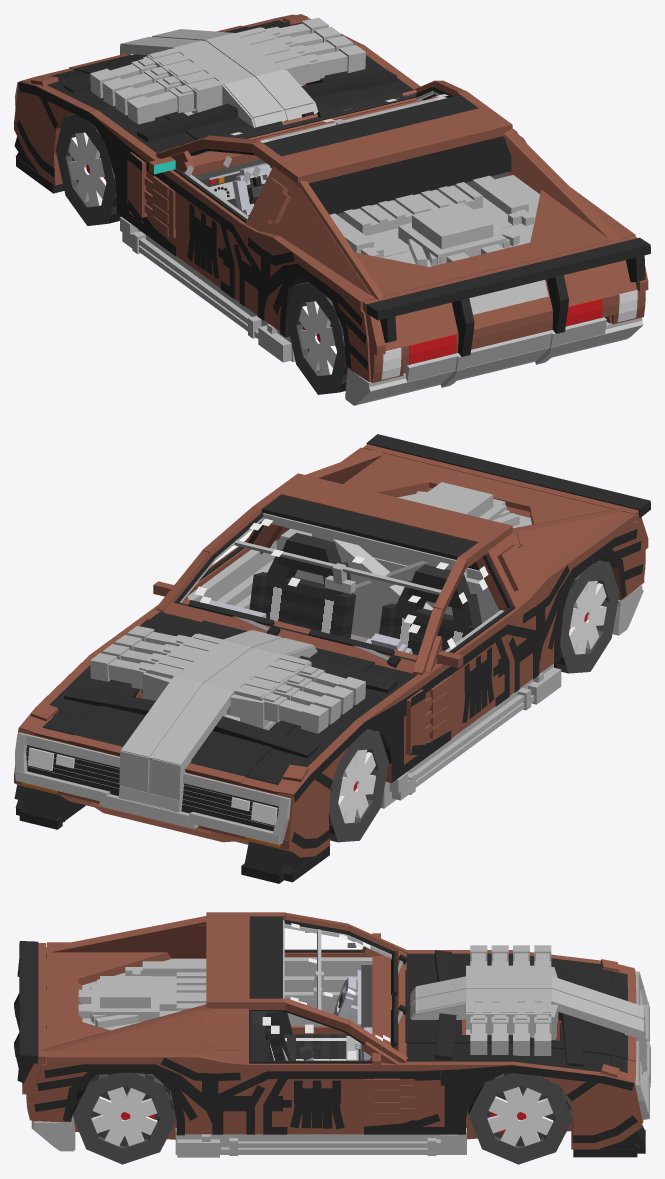
Rendered from hollowback.gltf.
The picture shows the model from 3 angles, top to bottom: view 1: azimuth 30°, elevation 25°; view 2: azimuth 150°, elevation 25°; view 3: azimuth 270°, elevation 25°; orthographic projection. The views are drawn at different scales.
Parts seen in each view (by area): view 1: part1 (×41), part3 (×17), part2 (×4), backwheels_main, front_left, wiper2, int; view 2: part1 (×50), part3 (×8), part2 (×6), seat (×5), backwheels_main, front_left, seatgp; view 3: part1 (×61), part3 (×17), part2 (×8), backwheels_main, front_right, bone4 (×4), seat, bone2 (×3), bone3 (×2), bone5 (×2), int.
Boxes of the visible parts, x1=… form: part1 (×41): x1=14, y1=55, x2=650, y2=403; part3 (×17): x1=121, y1=27, x2=539, y2=264; part2 (×4): x1=138, y1=229, x2=295, y2=362; backwheels_main: x1=286, y1=282, x2=347, y2=394; front_left: x1=55, y1=114, x2=121, y2=225; wiper2: x1=317, y1=92, x2=403, y2=117; int: x1=201, y1=159, x2=272, y2=186; part1 (×50): x1=14, y1=434, x2=650, y2=874; part3 (×8): x1=121, y1=482, x2=493, y2=771; part2 (×6): x1=187, y1=532, x2=561, y2=808; seat (×5): x1=262, y1=532, x2=481, y2=655; backwheels_main: x1=554, y1=559, x2=619, y2=673; front_left: x1=328, y1=728, x2=388, y2=842; seatgp: x1=451, y1=593, x2=481, y2=627; part1 (×61): x1=19, y1=912, x2=641, y2=1157; part3 (×17): x1=91, y1=958, x2=643, y2=1055; part2 (×8): x1=175, y1=957, x2=466, y2=1157; backwheels_main: x1=72, y1=1072, x2=176, y2=1164; front_right: x1=468, y1=1073, x2=572, y2=1164; bone4 (×4): x1=91, y1=1087, x2=157, y2=1146; seat: x1=284, y1=1034, x2=346, y2=1060; bone2 (×3): x1=487, y1=1098, x2=552, y2=1146; bone3 (×2): x1=488, y1=1096, x2=526, y2=1146; bone5 (×2): x1=123, y1=1087, x2=157, y2=1135; int: x1=361, y1=970, x2=372, y2=1027.
Size of the model in its own units: 2.22 by 1.22 by 4.68.
1 material, 1 textured.
